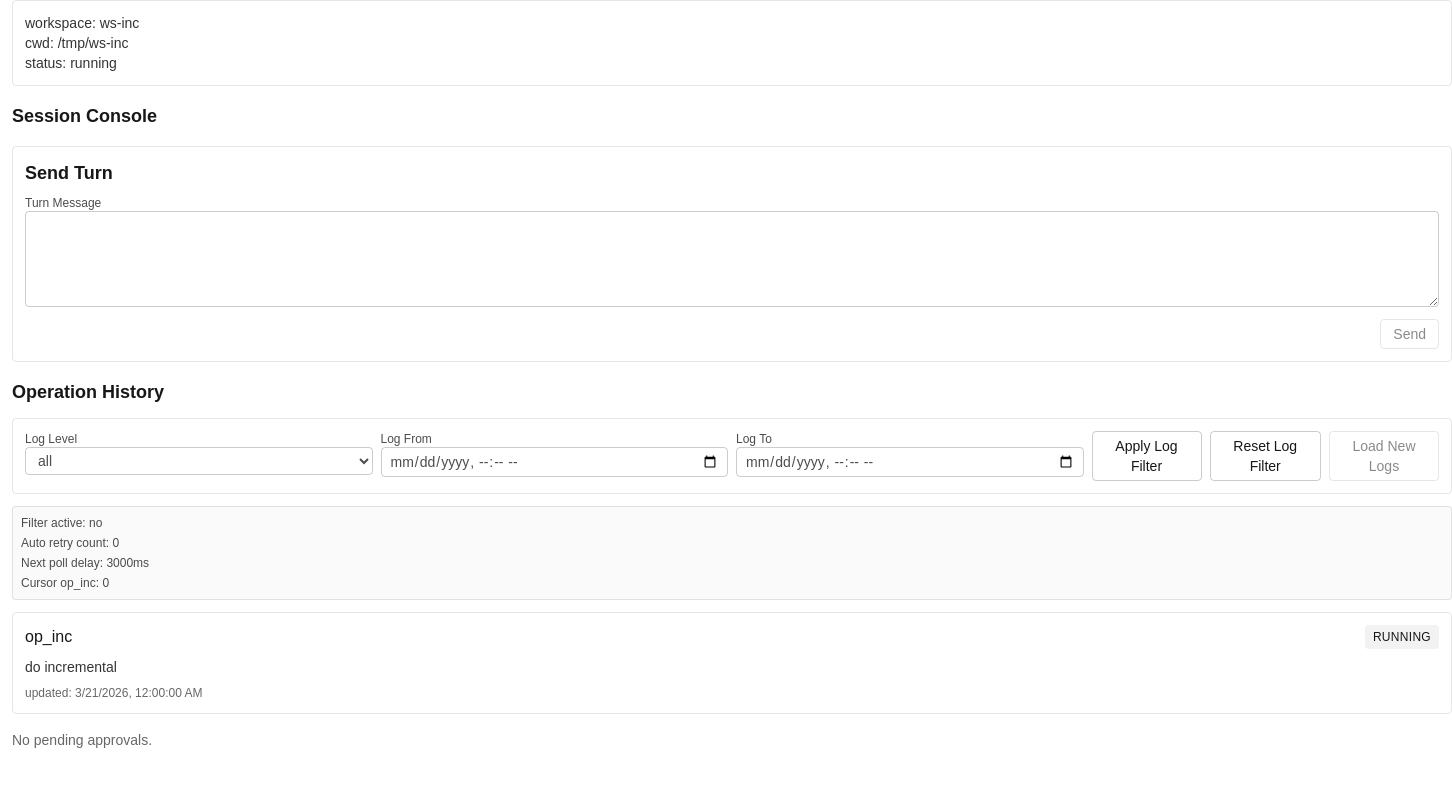
Test case: SessionDetailLive › loads incremental logs with cursor after filter applied
Select "error" in the dropdown labelled "Log Level" at (199, 461), box [25,447,372,475]
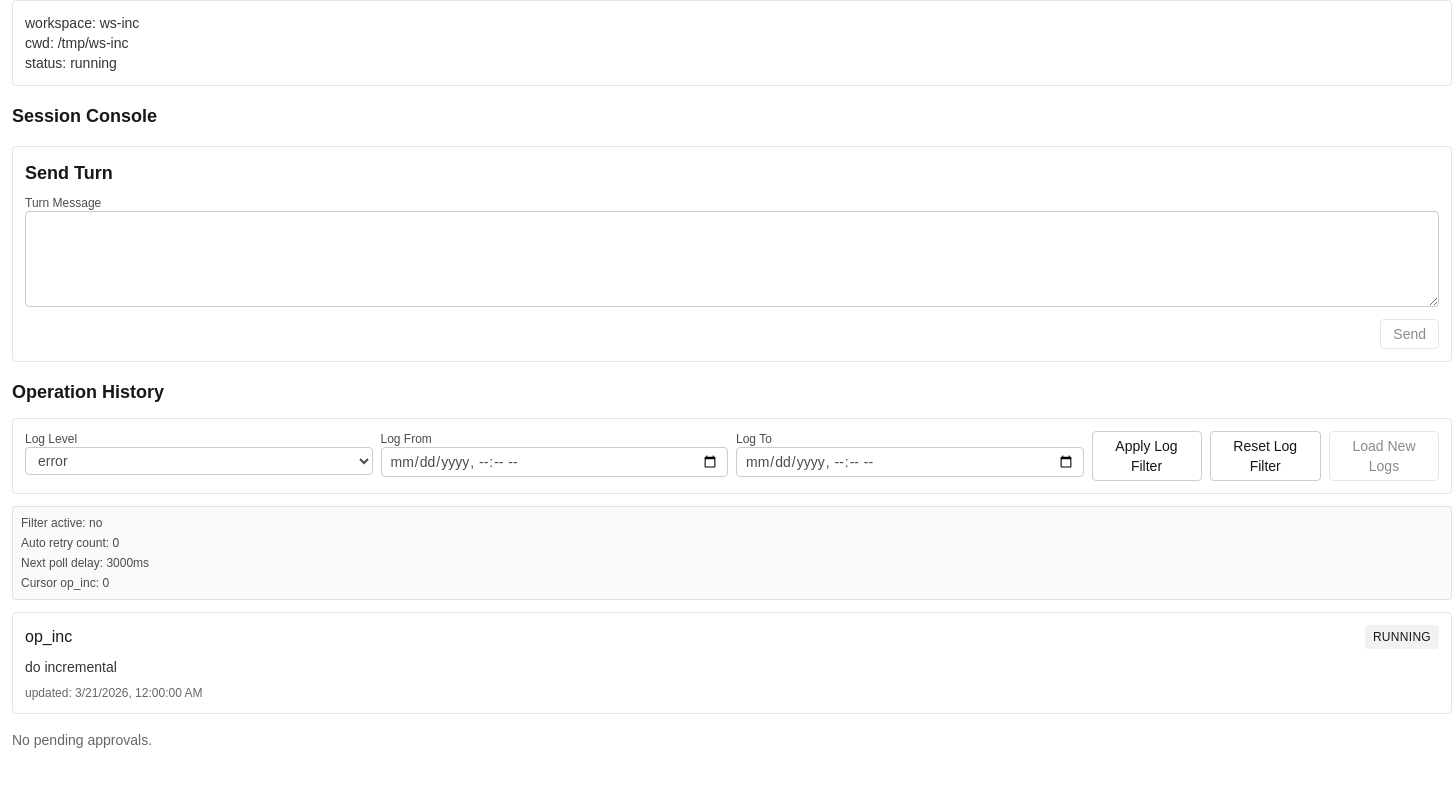
Click the button "Apply Log Filter" at (1146, 456), box [1092,431,1202,481]
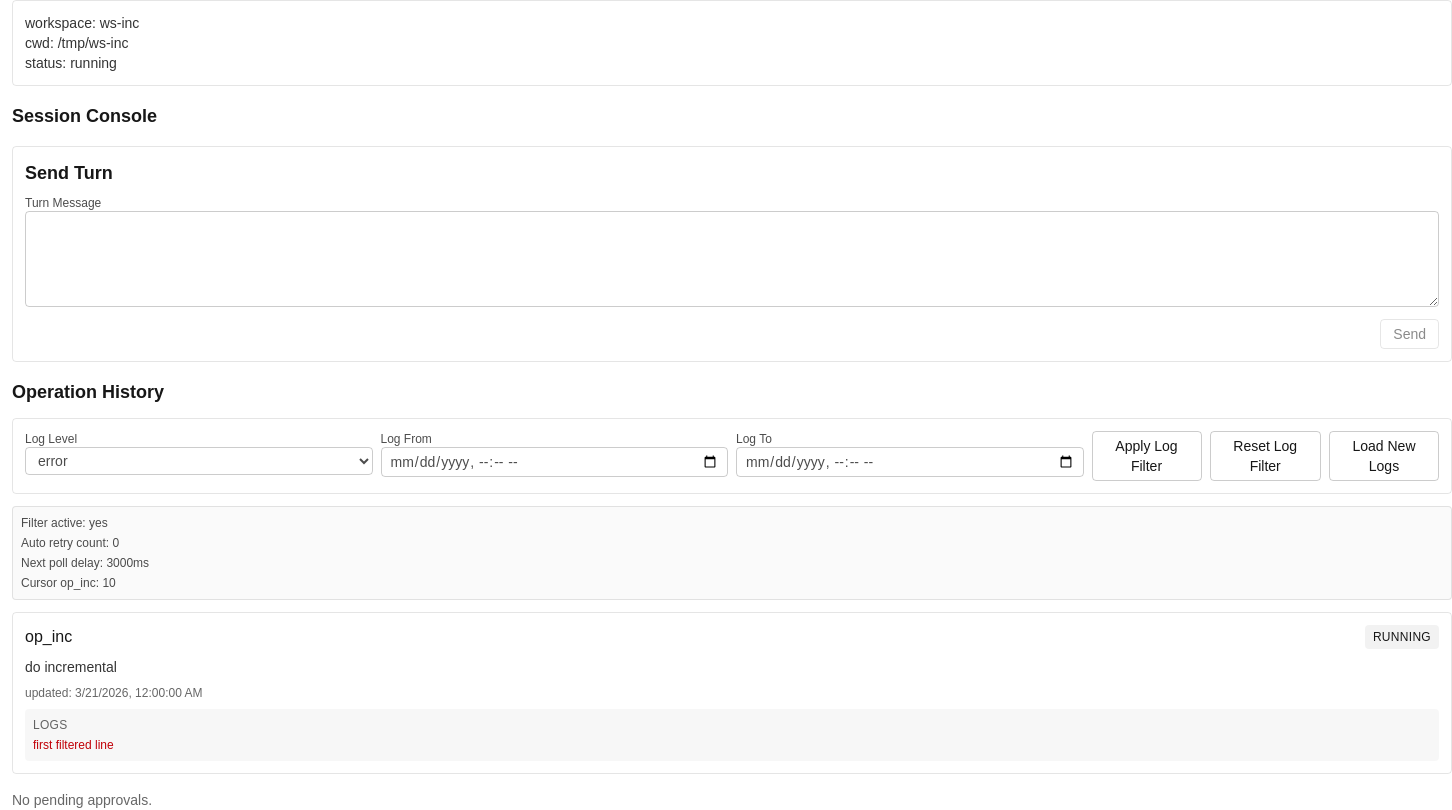
Result: the list item "first filtered line" is shown at [33,738,114,752]
Click the button "Load New Logs" at (1384, 456), box [1329,431,1439,481]
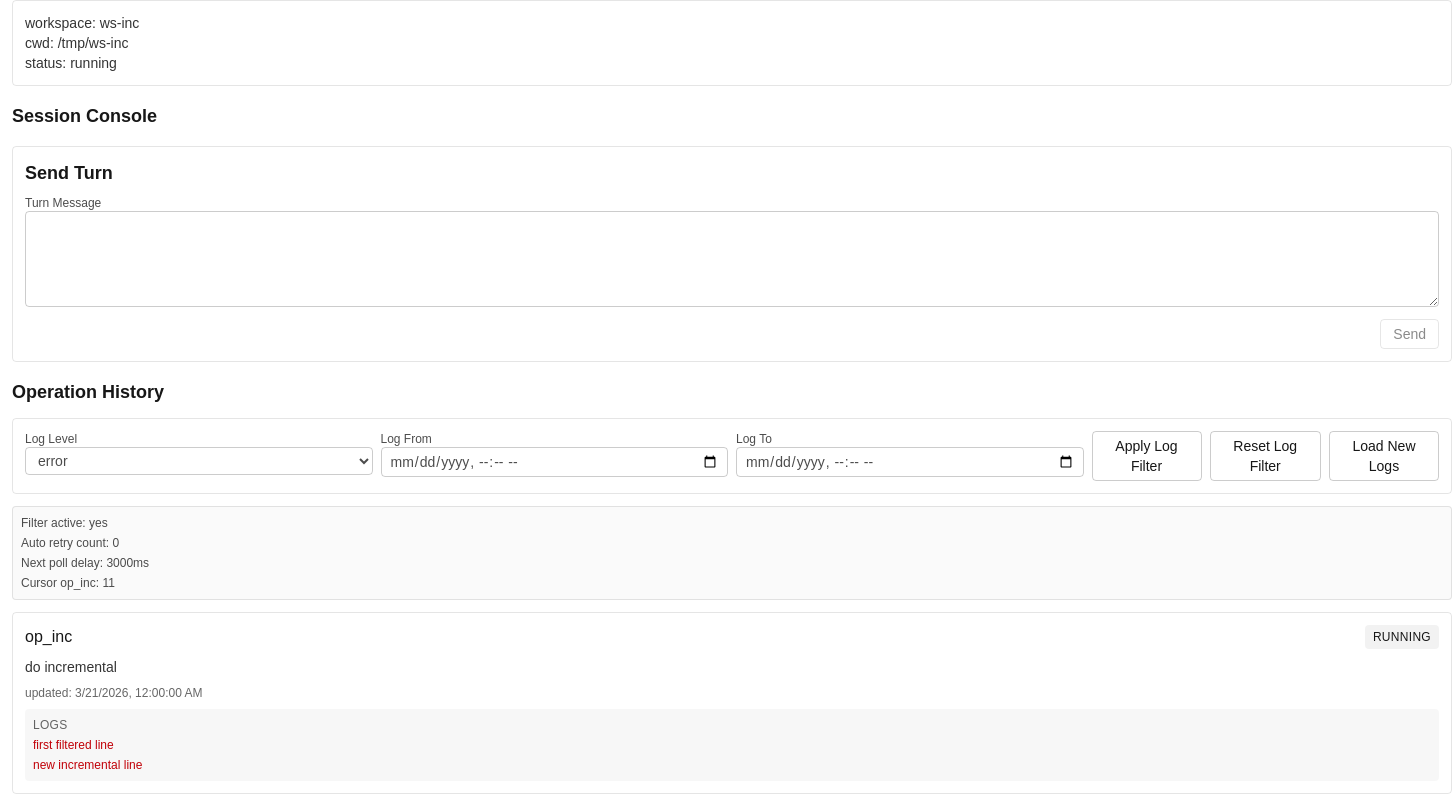
Result: the list item "new incremental line" is shown at [33,758,142,772]
